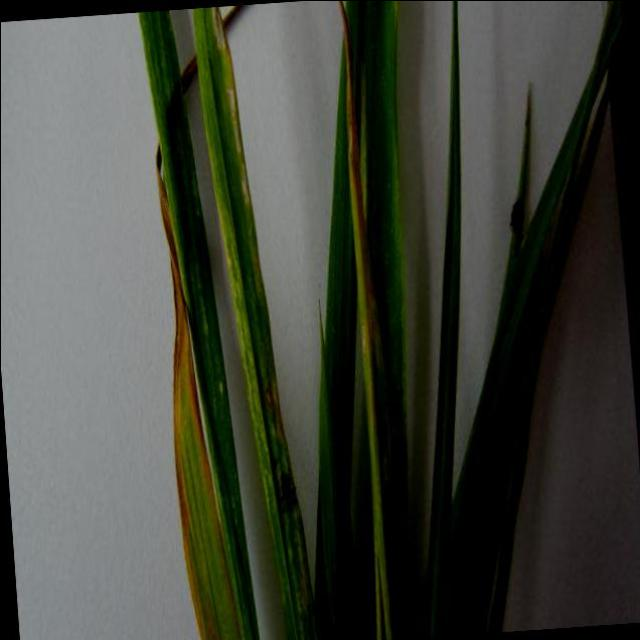ricebug: (509, 184, 529, 247), (502, 178, 519, 200)
